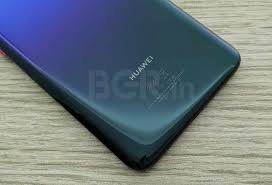huawei: (1, 1, 246, 175)
